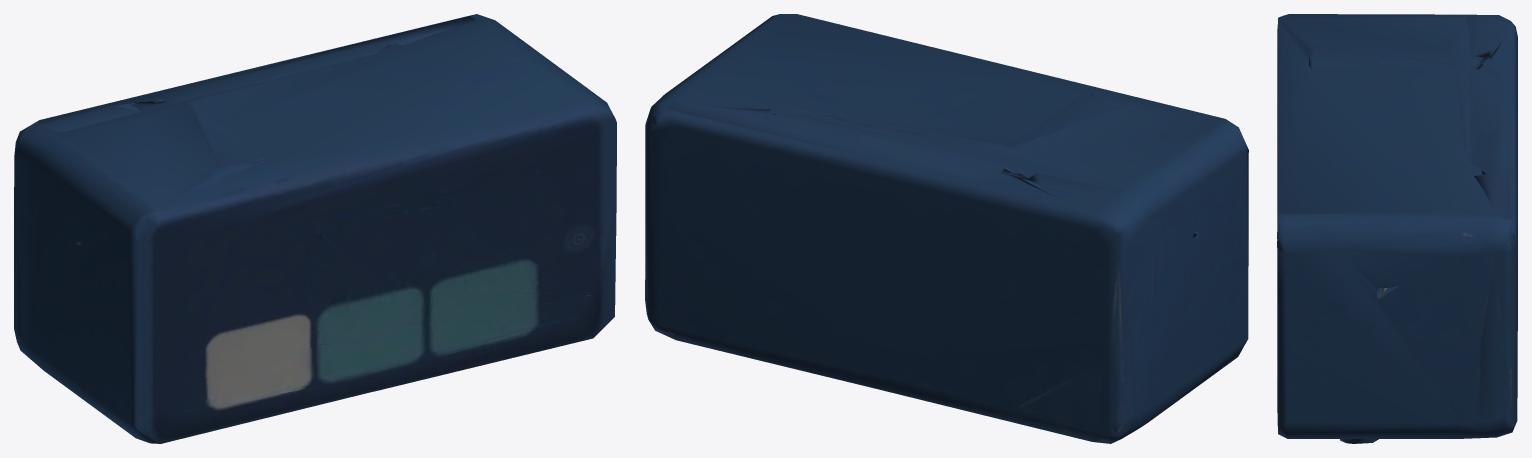
File: developer-tablet.glb
3 renders of one model, left to right at view 1: azimuth 30°, elevation 25°; view 2: azimuth 150°, elevation 25°; view 3: azimuth 270°, elevation 25°, orthographic. The views are drawn at different scales.
Bounding box in the file's own units: 1.9 × 1.02 × 0.8733.
1 material, 1 textured.
